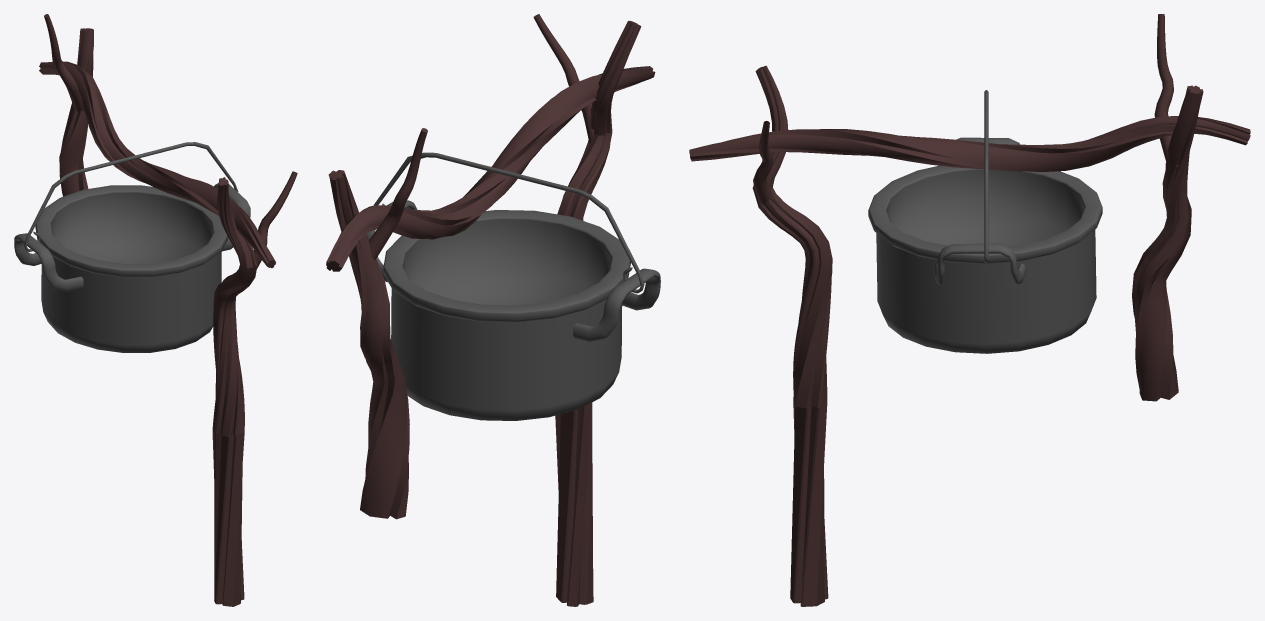
File: Kochtopf.fbx
3 renders of one model, left to right at view 1: azimuth 30°, elevation 25°; view 2: azimuth 150°, elevation 25°; view 3: azimuth 270°, elevation 25°, orthographic. The views are drawn at different scales.
Visible parts, largest first — view 1: Kochtopf:pCylinder38, sweep15; view 2: Kochtopf:pCylinder38, sweep15; view 3: sweep15, Kochtopf:pCylinder38.
Boxes of the visible parts, bbox=[...] form: Kochtopf:pCylinder38: bbox=[14, 142, 250, 352]; sweep15: bbox=[39, 14, 297, 606]; Kochtopf:pCylinder38: bbox=[366, 152, 660, 420]; sweep15: bbox=[326, 14, 655, 606]; sweep15: bbox=[689, 14, 1250, 606]; Kochtopf:pCylinder38: bbox=[868, 90, 1102, 353].
Size of the model in its own units: 152 by 330 by 295.
